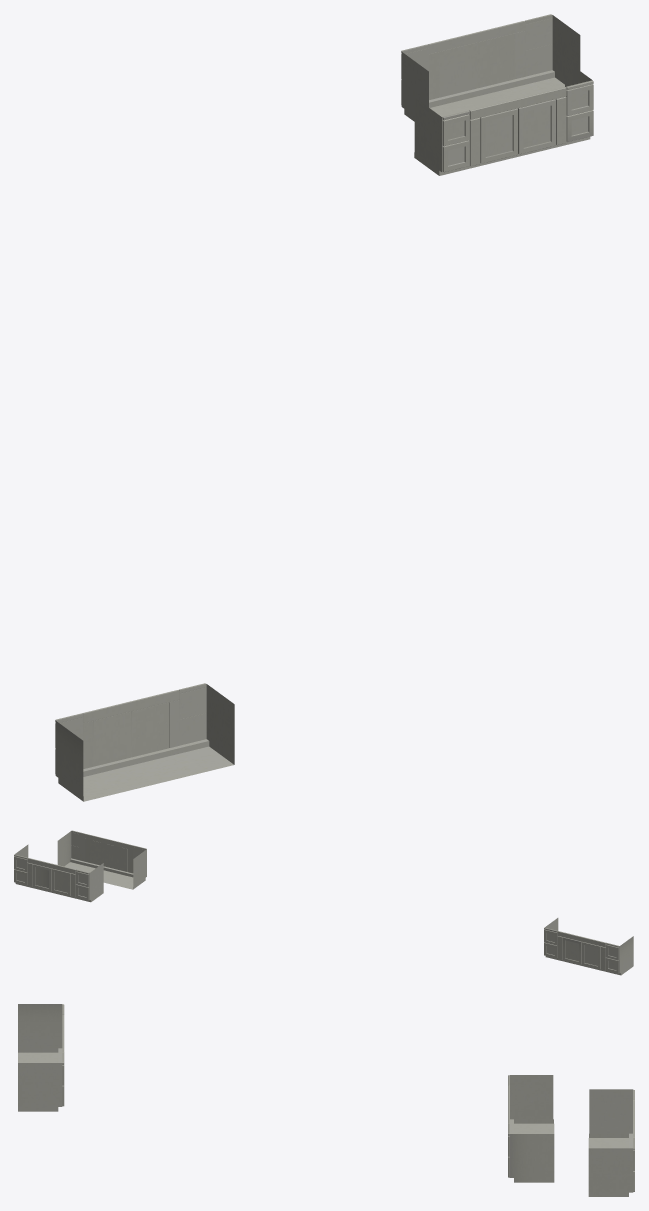
The model's file is Cabinets_Bolder_.glb.
The picture shows the model from 3 angles, top to bottom: view 1: azimuth 30°, elevation 25°; view 2: azimuth 150°, elevation 25°; view 3: azimuth 270°, elevation 25°; orthographic projection. The views are drawn at different scales.
Visible parts, largest first — view 1: Bathroom_Cabinet_Bolder_2345; view 2: Bathroom_Cabinet_Bolder_2345; view 3: Bathroom_Cabinet_Bolder_2345.
Part boxes in pixels (x1,y1,x2,y2): Bathroom_Cabinet_Bolder_2345: (55,14,593,801); Bathroom_Cabinet_Bolder_2345: (14,830,633,975); Bathroom_Cabinet_Bolder_2345: (18,1004,634,1196).
Size of the model in its own units: 16.16 by 5.37 by 12.73.
Materials: 1 (1 with a texture image).
